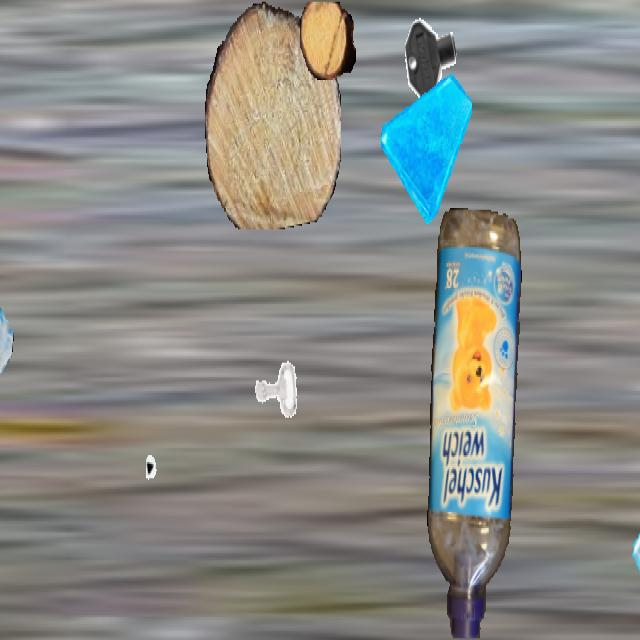glass: (381, 62, 471, 222), (0, 247, 14, 379), (631, 486, 640, 638)
metal: (146, 423, 208, 533), (401, 2, 463, 112), (249, 343, 301, 436)
plastic: (426, 208, 524, 638)
wood: (205, 2, 341, 229), (300, 2, 356, 80)
